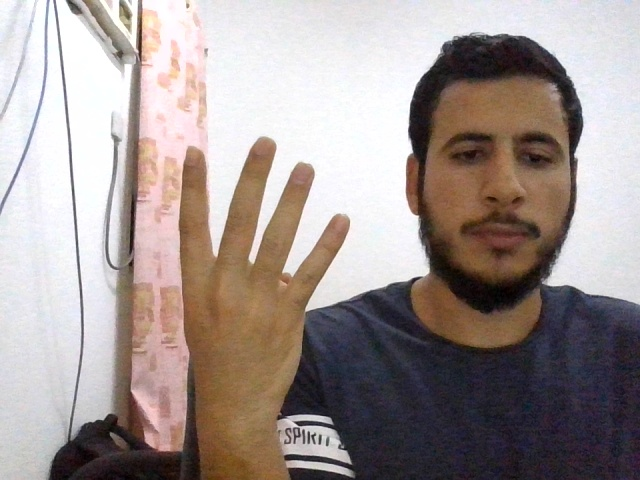Four: (179, 136, 352, 446)
